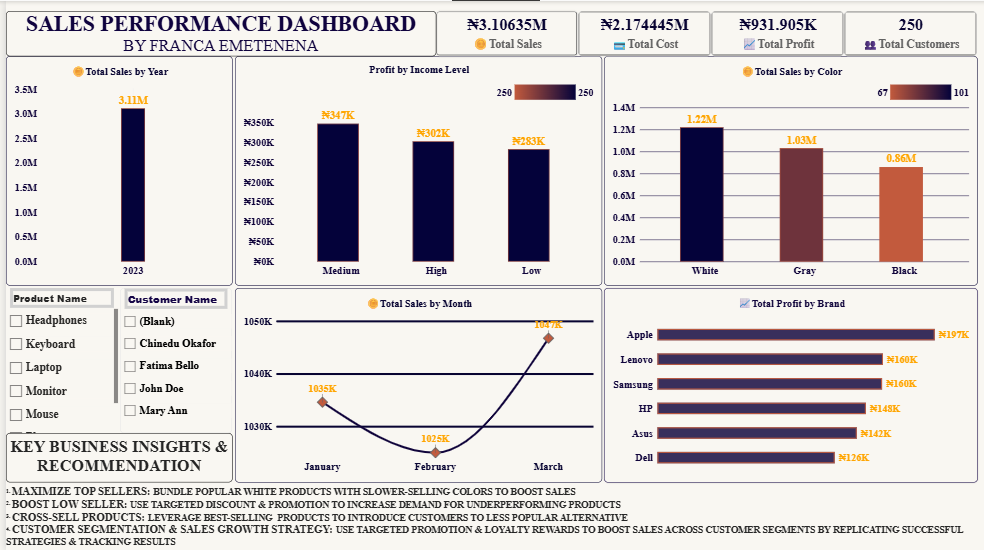

Layout of this report page (visuals, bound fields, positions):
{"tool":"powerbi","page":{"name":"Page 1","canvas":[1920,1080],"ordinal":0},"visuals":[{"type":"barChart","fields":{"Category":["Products.Brand"],"Y":["Sales.Total Profit"]},"box":[1175,563.8,734.4,382.3],"z":0},{"type":"clusteredColumnChart","fields":{"Category":["Products.Color"],"Y":["Sales.🪙Total Sales"]},"box":[1175,108,734.4,451.4],"z":1000},{"type":"lineChart","fields":{"Category":["Sales.SaleDate.Variation.Date Hierarchy.Year","Sales.SaleDate.Variation.Date Hierarchy.Quarter","Sales.SaleDate.Variation.Date Hierarchy.Month","Sales.SaleDate.Variation.Date Hierarchy.Day"],"Y":["Sales.Total Sale"]},"box":[449.3,563.8,721.4,382.3],"z":2000},{"type":"clusteredColumnChart","fields":{"Category":["Sales.SaleDate.Variation.Date Hierarchy.Year"],"Y":["Sales.🪙Total Sales"]},"box":[0,108,445,451.4],"z":3000},{"type":"clusteredColumnChart","title":"Profit by Income Level","fields":{"Category":["Customers.IncomeLevel"],"Y":["Sales.Total Profit","Sales.Total Profit"]},"box":[449.3,108,721.4,451.4],"z":4000},{"type":"cardVisual","fields":{"Data":["Sales.Total Sale"]},"box":[844.6,19.4,278.6,88.6],"z":5000},{"type":"cardVisual","fields":{"Data":["Sales.Total Cost"]},"box":[1123.2,19.4,261.4,88.6],"z":6000},{"type":"cardVisual","fields":{"Data":["Sales.Total Profit"]},"box":[1384.6,19.4,261.4,88.6],"z":7000},{"type":"cardVisual","fields":{"Data":["Sales.Total Customers"]},"box":[1645.9,19.4,261.4,88.6],"z":8000},{"type":"slicer","fields":{"Values":["Customers.CustomerName"]},"box":[224.6,563.8,220.3,285.1],"z":9000},{"type":"slicer","fields":{"Values":["Products.ProductName"]},"box":[0,563.8,220.3,285.1],"z":10000},{"type":"textbox","box":[0,19.4,844.6,88.6],"z":10001},{"type":"textbox","box":[0,879.1,445,82.1],"z":10002},{"type":"textbox","box":[0,848.9,445,97.2],"z":10003},{"type":"textbox","box":[0,946.1,1907.3,133.9],"z":10004}]}

Visuals, with their boxes in screenshot pixels (x1, y1, x2, y2), scaled from the page's 1920x1080 canvas onto the 984x550 screenshot:
barChart - Products.Brand x Sales.Total Profit: pyautogui.locateOnScreen(602, 287, 979, 482)
clusteredColumnChart - Products.Color x Sales.🪙Total Sales: pyautogui.locateOnScreen(602, 55, 979, 285)
lineChart - Sales.SaleDate.Variation.Date Hierarchy.Year x Sales.SaleDate.Variation.Date Hierarchy.Quarter: pyautogui.locateOnScreen(230, 287, 600, 482)
clusteredColumnChart - Sales.SaleDate.Variation.Date Hierarchy.Year x Sales.🪙Total Sales: pyautogui.locateOnScreen(0, 55, 228, 285)
"Profit by Income Level" clusteredColumnChart: pyautogui.locateOnScreen(230, 55, 600, 285)
cardVisual - Sales.Total Sale: pyautogui.locateOnScreen(433, 10, 576, 55)
cardVisual - Sales.Total Cost: pyautogui.locateOnScreen(576, 10, 710, 55)
cardVisual - Sales.Total Profit: pyautogui.locateOnScreen(710, 10, 844, 55)
cardVisual - Sales.Total Customers: pyautogui.locateOnScreen(844, 10, 977, 55)
slicer - Customers.CustomerName: pyautogui.locateOnScreen(115, 287, 228, 432)
slicer - Products.ProductName: pyautogui.locateOnScreen(0, 287, 113, 432)
textbox: pyautogui.locateOnScreen(0, 10, 433, 55)
textbox: pyautogui.locateOnScreen(0, 448, 228, 490)
textbox: pyautogui.locateOnScreen(0, 432, 228, 482)
textbox: pyautogui.locateOnScreen(0, 482, 977, 549)
